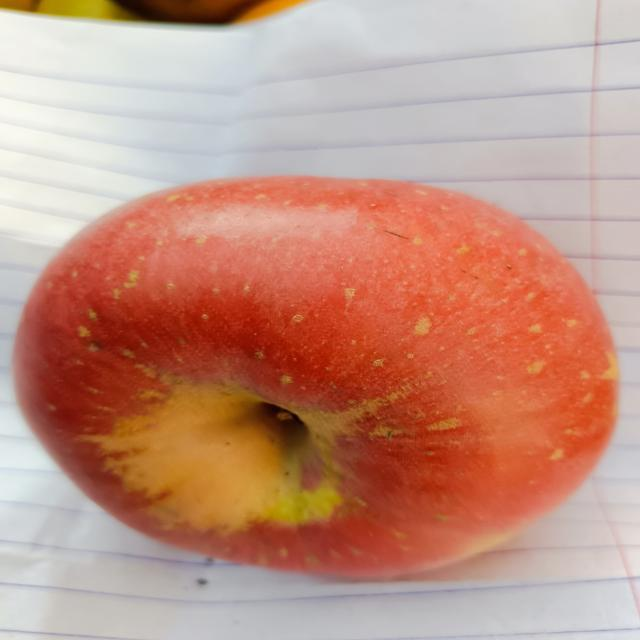Fresh Apple: (7, 165, 615, 584)
